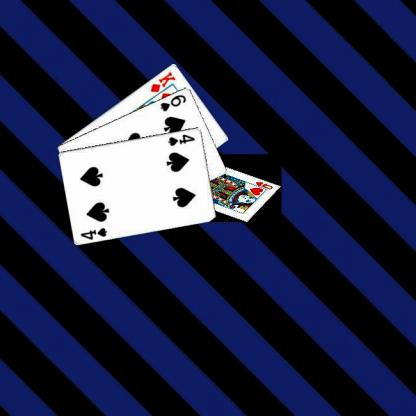4S: (166, 131, 196, 147), (78, 224, 108, 240)
6S: (158, 92, 188, 112)
KD: (147, 68, 177, 94)
